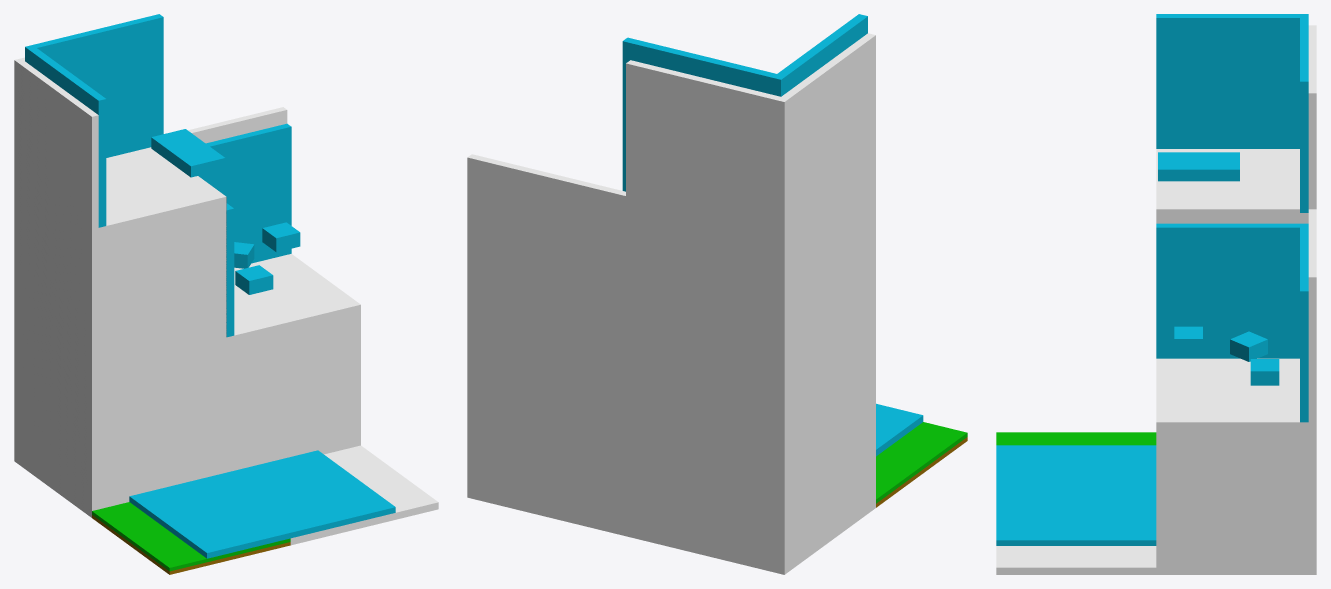
The model's file is maxtower_base.glb.
The picture shows the model from 3 angles, left to right: view 1: azimuth 30°, elevation 25°; view 2: azimuth 150°, elevation 25°; view 3: azimuth 270°, elevation 25°; orthographic projection. The views are drawn at different scales.
Parts seen in each view (by area): view 1: group_0, group_9, group_8, group_7, group_1, group_5, group_4, group_3, group_2; view 2: group_0, group_8, group_1, group_9; view 3: group_0, group_8, group_7, group_9, group_5, group_1, group_6, group_3, group_4.
Boxes of the visible parts, left/top/right/bottom form: group_0: left=14, top=57, right=438, bottom=545; group_9: left=129, top=450, right=395, bottom=558; group_8: left=25, top=14, right=163, bottom=227; group_7: left=198, top=123, right=291, bottom=337; group_1: left=92, top=502, right=290, bottom=571; group_5: left=151, top=129, right=225, bottom=177; group_4: left=262, top=222, right=300, bottom=252; group_3: left=235, top=265, right=273, bottom=294; group_2: left=92, top=515, right=290, bottom=574; group_0: left=467, top=33, right=875, bottom=574; group_8: left=622, top=14, right=867, bottom=191; group_1: left=876, top=422, right=967, bottom=503; group_9: left=876, top=403, right=923, bottom=456; group_0: left=996, top=25, right=1316, bottom=574; group_8: left=1156, top=14, right=1308, bottom=212; group_7: left=1156, top=223, right=1308, bottom=422; group_9: left=996, top=445, right=1156, bottom=545; group_5: left=1158, top=152, right=1239, bottom=181; group_1: left=996, top=432, right=1156, bottom=445; group_6: left=1230, top=331, right=1267, bottom=361; group_3: left=1174, top=326, right=1202, bottom=353; group_4: left=1250, top=359, right=1279, bottom=385.
Size of the model in its own units: 6.1 by 9 by 6.1.
